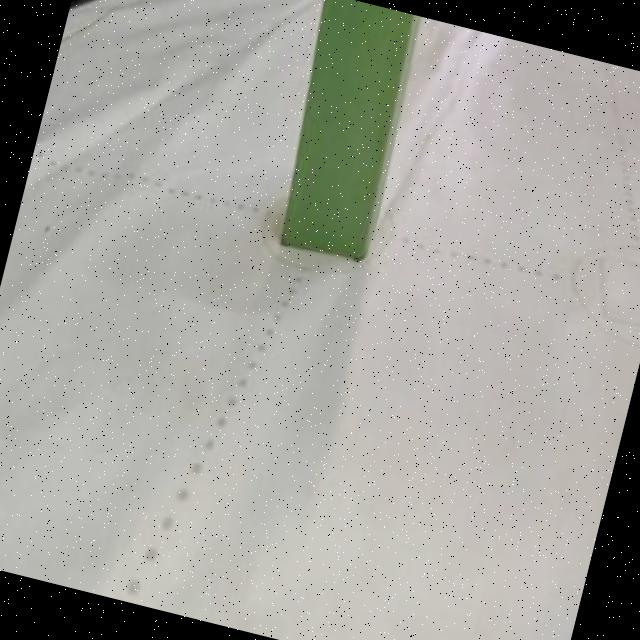greenbox: (251, 0, 424, 264)
